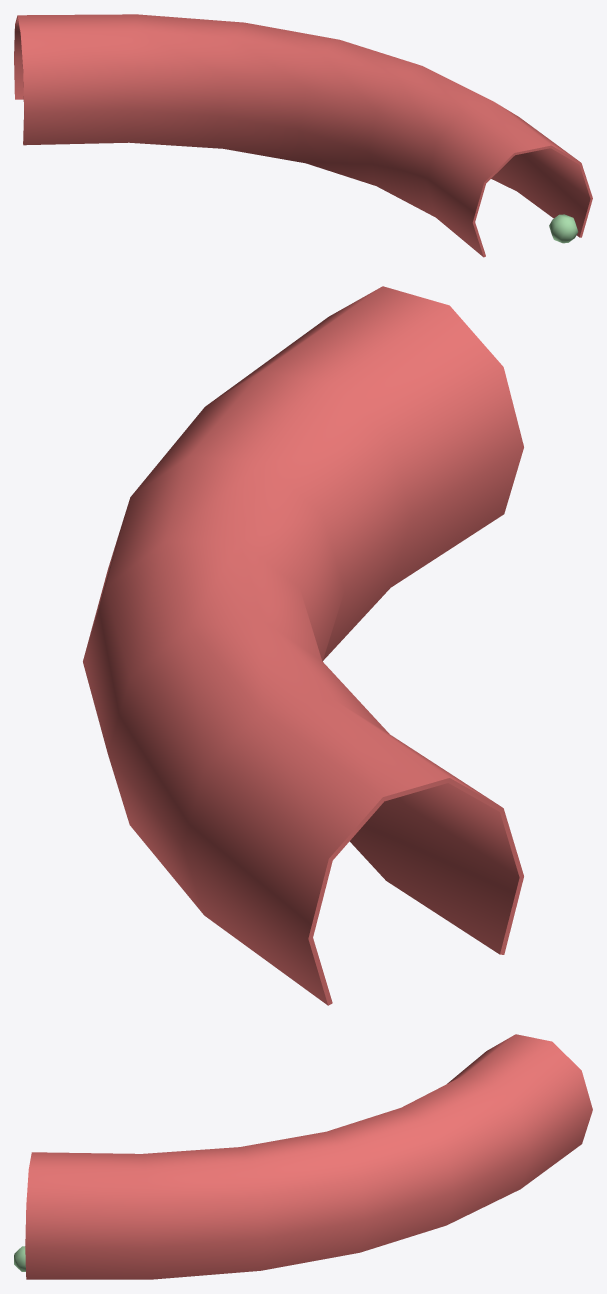
File: M_Dogguandao01.FBX
3 views of the same model, one above another, from view 1: azimuth 30°, elevation 25°; view 2: azimuth 150°, elevation 25°; view 3: azimuth 270°, elevation 25° (orthographic). The views are drawn at different scales.
Visible parts, largest first — view 1: M_Dogguandao01_01, M_Dogguandao01_02; view 2: M_Dogguandao01_01; view 3: M_Dogguandao01_01.
Boxes of the visible parts, x1,y1,x2,y2 form: M_Dogguandao01_01: (14, 14, 592, 257); M_Dogguandao01_02: (549, 214, 578, 243); M_Dogguandao01_01: (83, 286, 523, 1005); M_Dogguandao01_01: (25, 1034, 592, 1279).
Bounding box in the file's own units: 2.8 × 0.7763 × 4.22.
